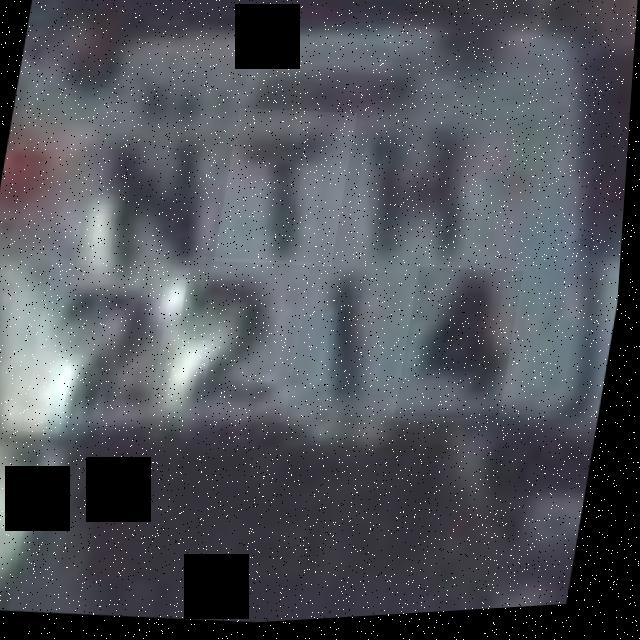1: (291, 269, 395, 414)
2: (29, 252, 194, 437), (152, 251, 318, 432)
4: (399, 267, 528, 431)
N: (347, 113, 512, 290), (77, 109, 237, 277)
T: (217, 105, 361, 276)
